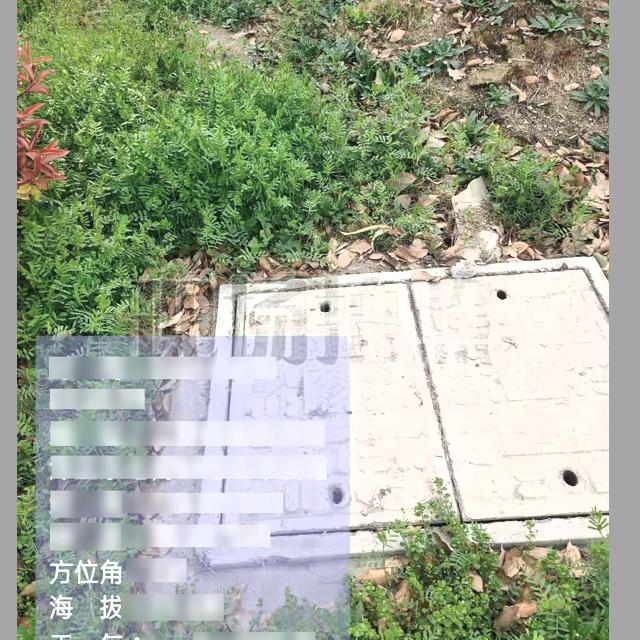good: (193, 255, 609, 566)
